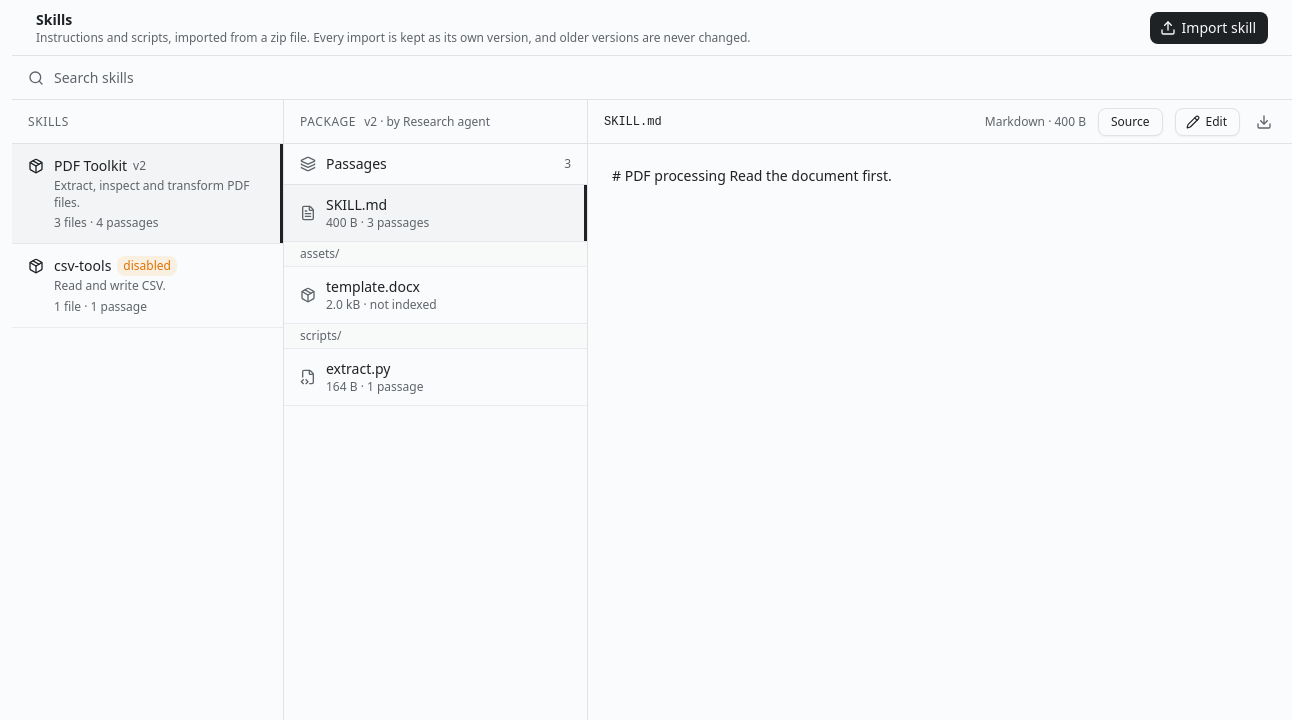
Scenario: the skills screen › keeps the sticky passages header opaque and above the rows
The width and height of the screenshot is (1292, 720).
Expected: the button "PDF Toolkit" is shown, 12,144 -> 283,243
Click the button "Passages 3" at [356, 164], box 284,144 -> 587,185
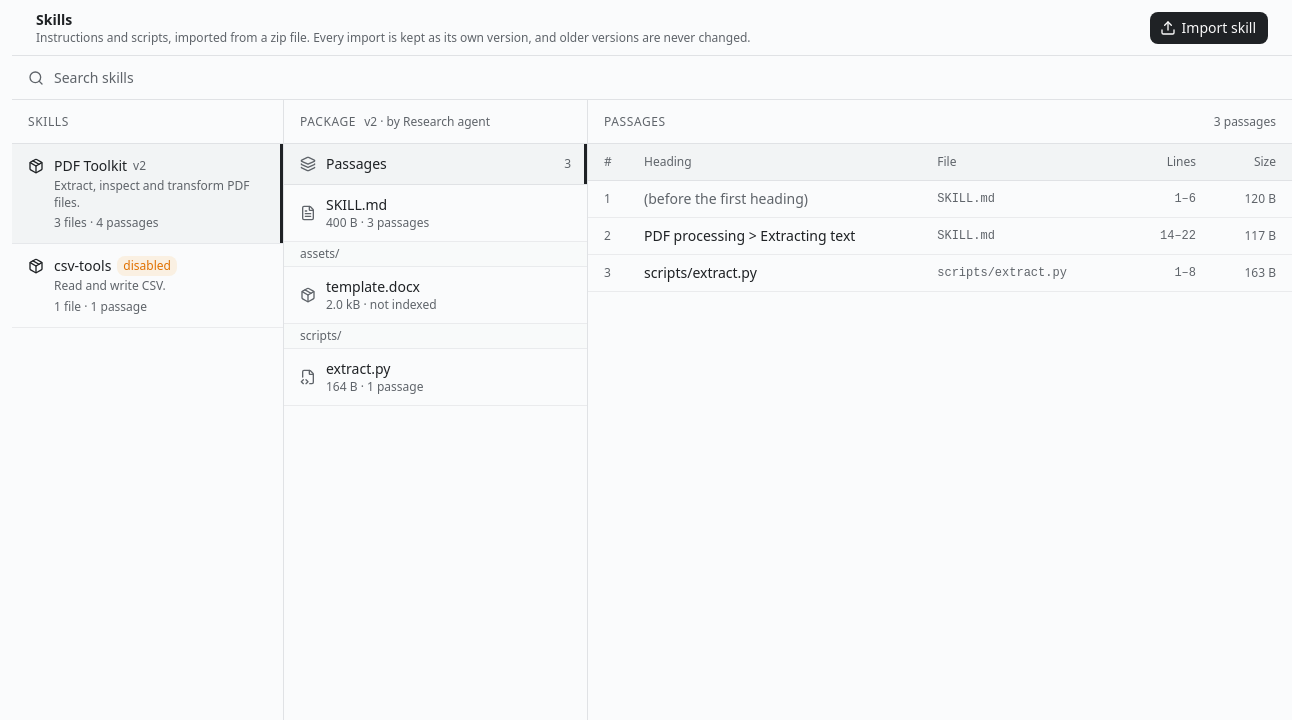
Expected: the element showing "# Heading File Lines Size" is shown, 588,144 -> 1291,180
